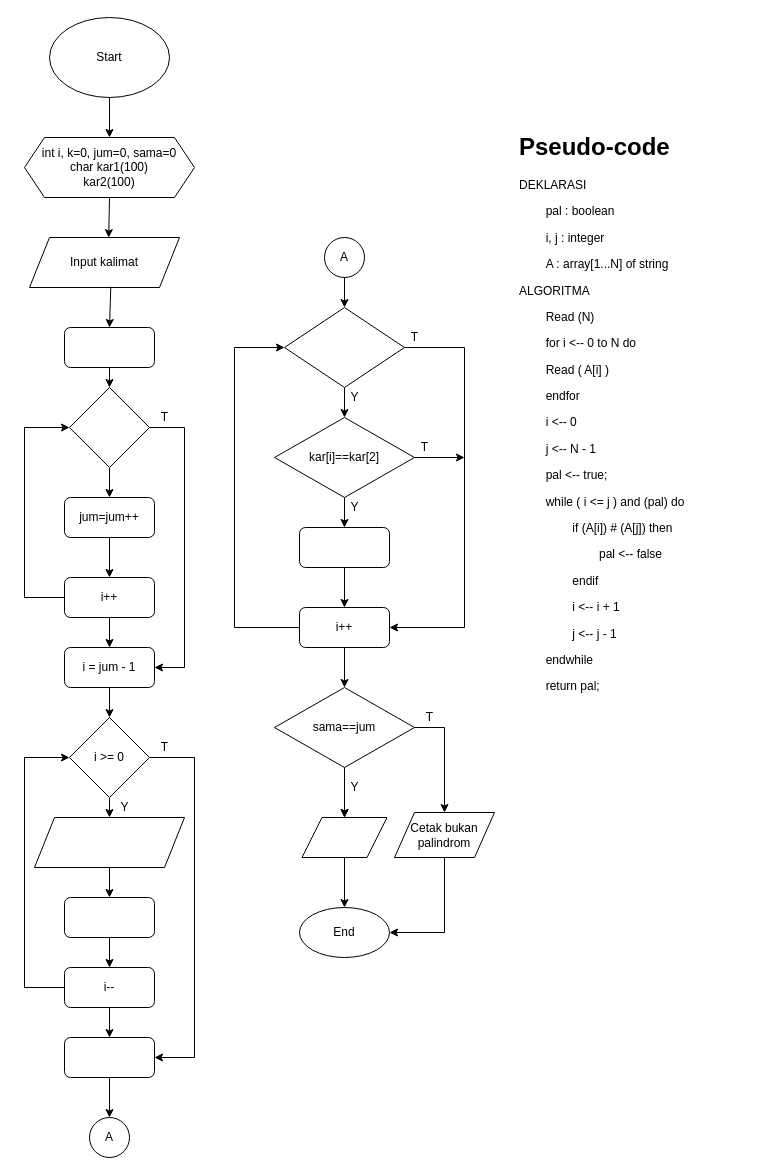
This 772x1175 diagram has some shape labels left out. The shapes that lost their labels are listed below. From the top down, each one's centre as x and y in pixels, then its label:
At (109,347): "i = 0".
At (344,347): "i<jum".
At (109,427): "kar[i]".
At (344,547): "sama++".
At (109,842): "Cetak kar[i]".
At (344,837): "Cetak palindrom".
At (109,917): "kar2[k]=kar[i]".
At (109,1057): "i=0".
